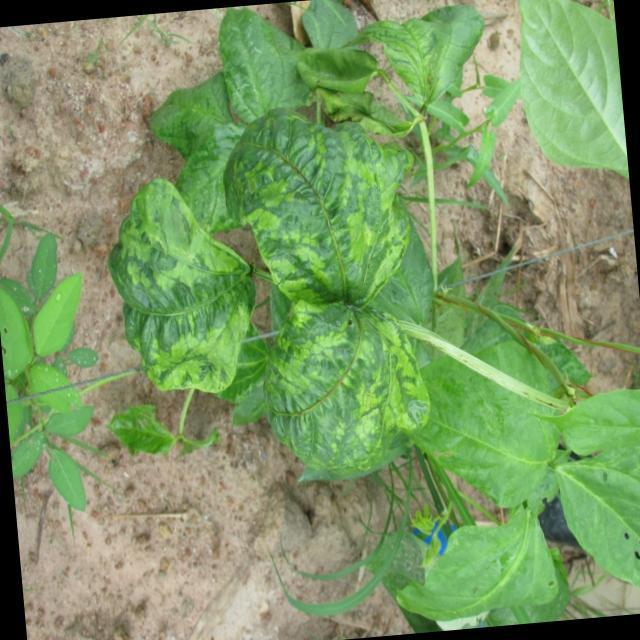Mosaic Virus: (227, 111, 432, 316), (258, 307, 432, 495), (99, 196, 254, 387)
